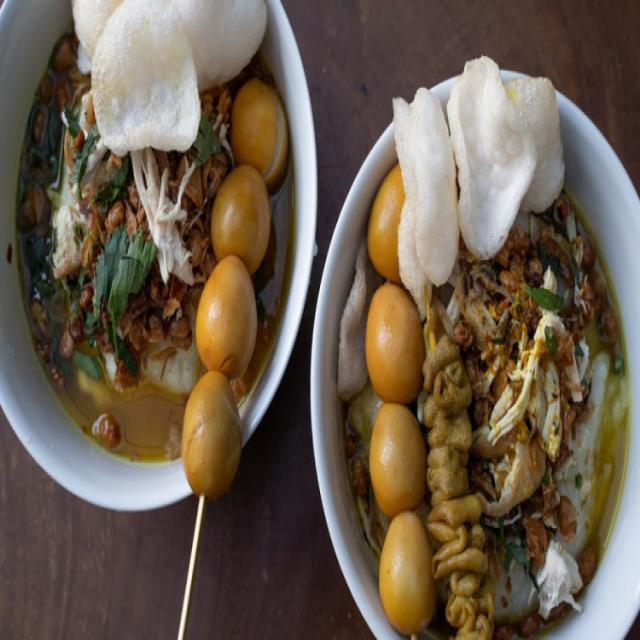bubur ayam: (343, 51, 629, 638), (14, 0, 294, 464)
mangkuk: (310, 56, 640, 632), (0, 2, 318, 514)
